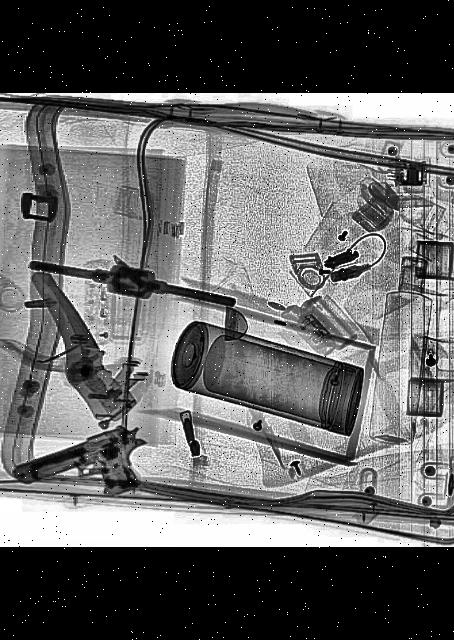Gun: (4, 420, 166, 522)
